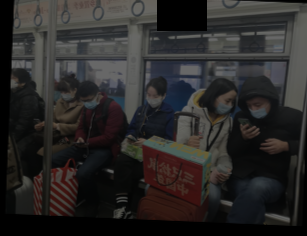with_mask: (212, 95, 236, 117), (246, 97, 269, 119), (144, 89, 161, 108), (80, 95, 98, 110), (60, 88, 73, 102), (10, 74, 20, 88)
